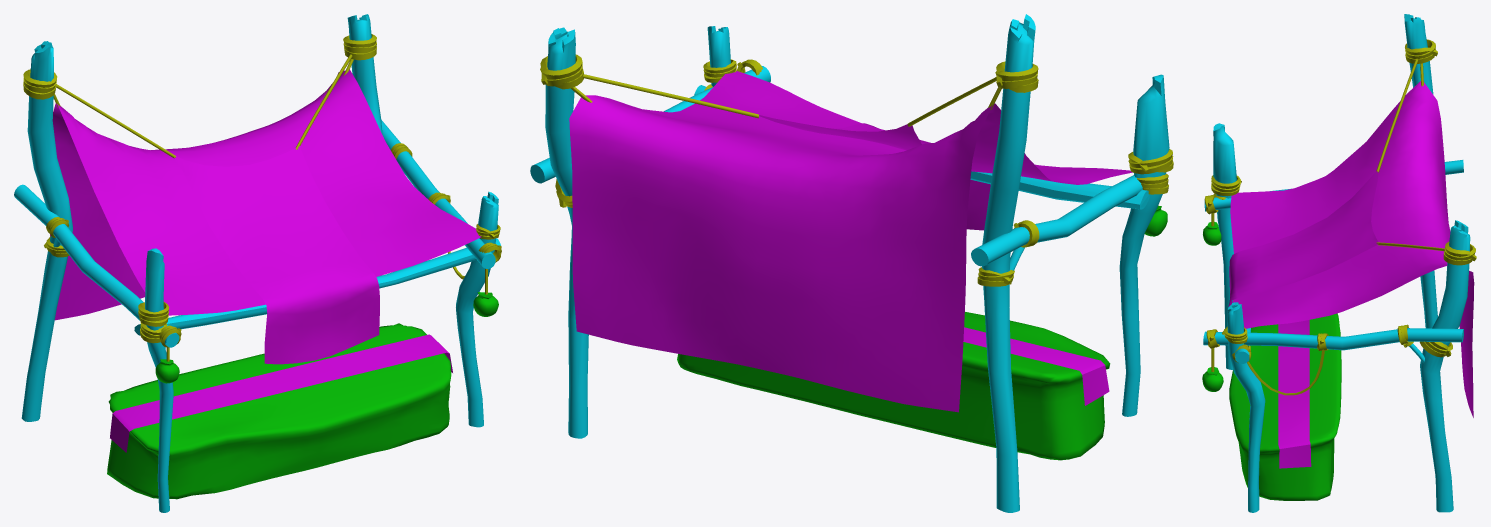
File: SM_Etale_Low.fbx
The picture shows the model from 3 angles, left to right: view 1: azimuth 30°, elevation 25°; view 2: azimuth 150°, elevation 25°; view 3: azimuth 270°, elevation 25°; orthographic projection. The views are drawn at different scales.
Parts seen in each view (by area): view 1: SM_A_low; view 2: SM_A_low; view 3: SM_A_low.
Part boxes in pixels (<box>): SM_A_low: <box>14,14,501,512</box>; SM_A_low: <box>530,14,1173,512</box>; SM_A_low: <box>1202,14,1476,512</box>.
Bounding box in the file's own units: 215 × 153 × 217.
